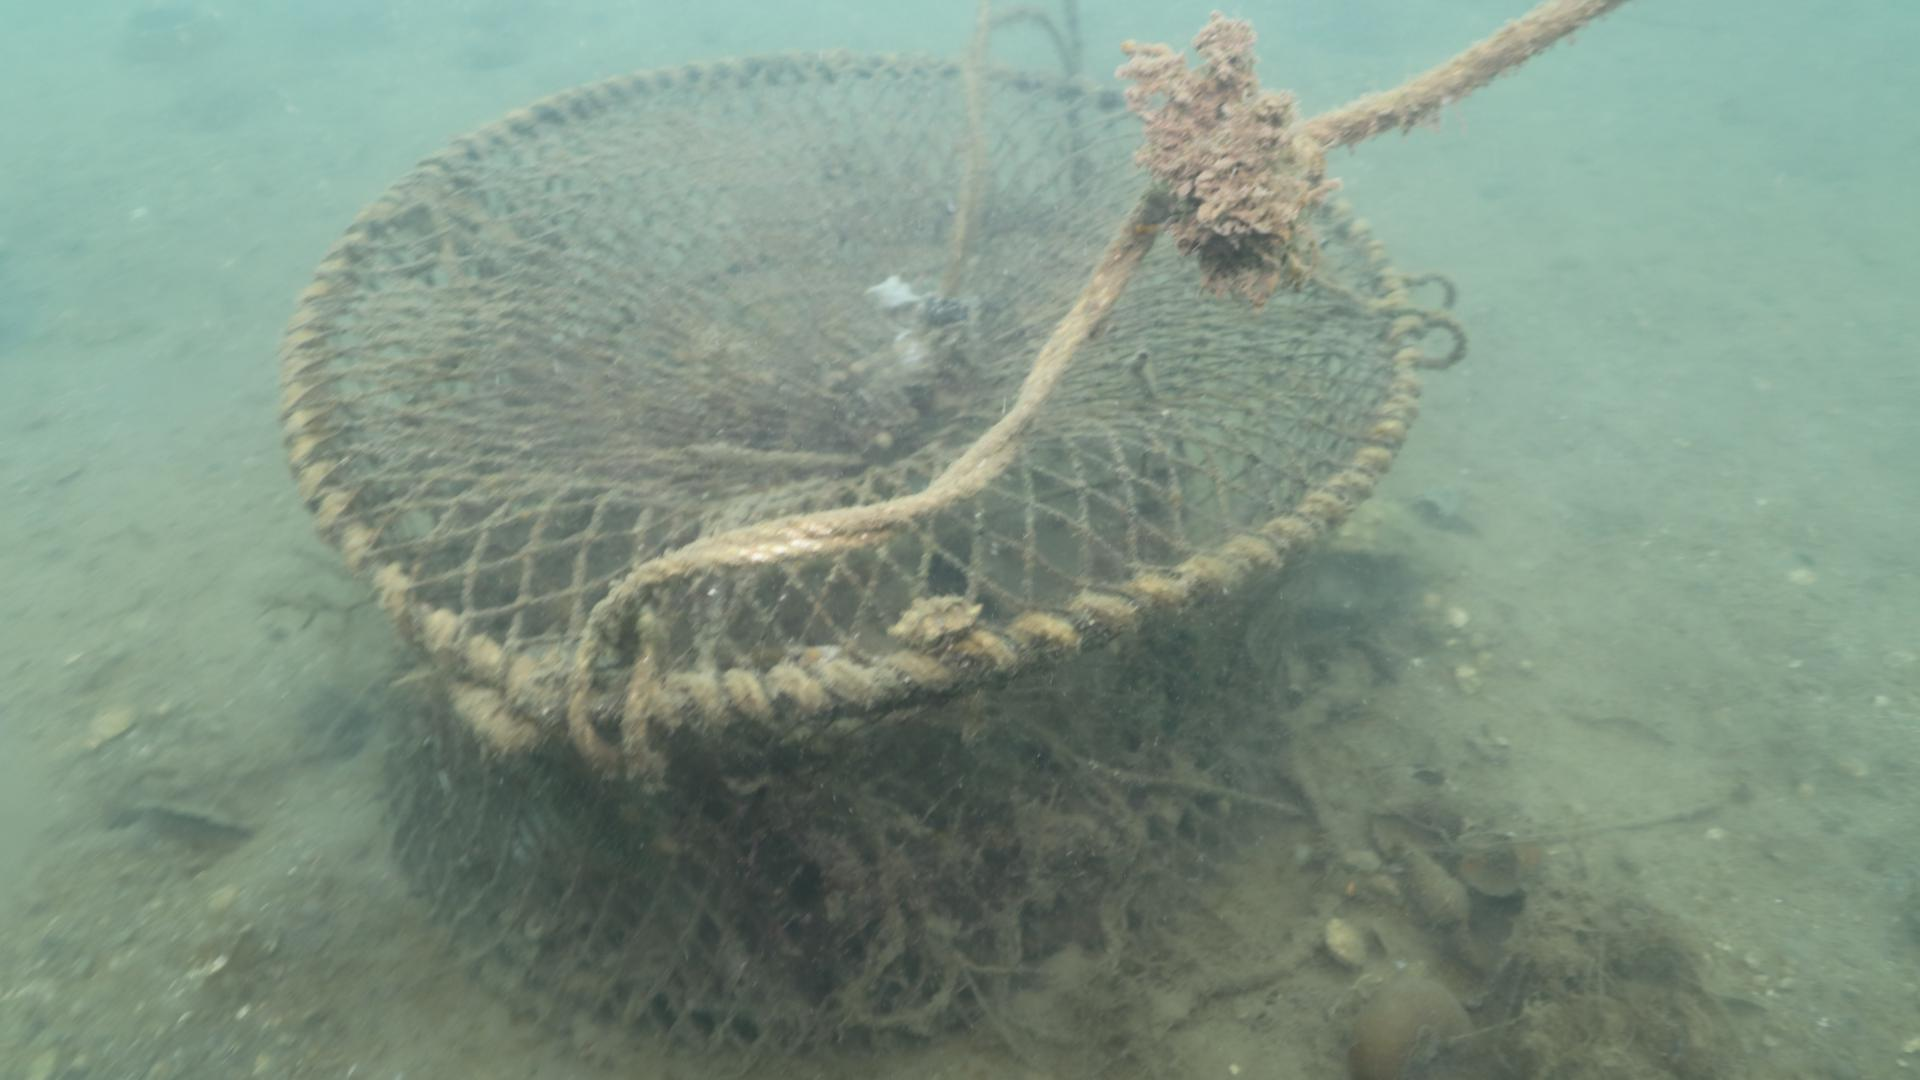circular fish trap: (276, 49, 1422, 1063)
